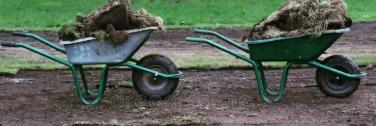BROUETTE: (1, 0, 367, 110)
